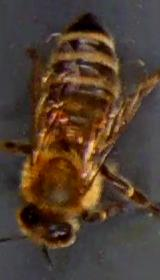varroa_mite: (46, 106, 68, 128)
